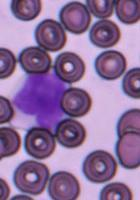M: (9, 72, 70, 128)
